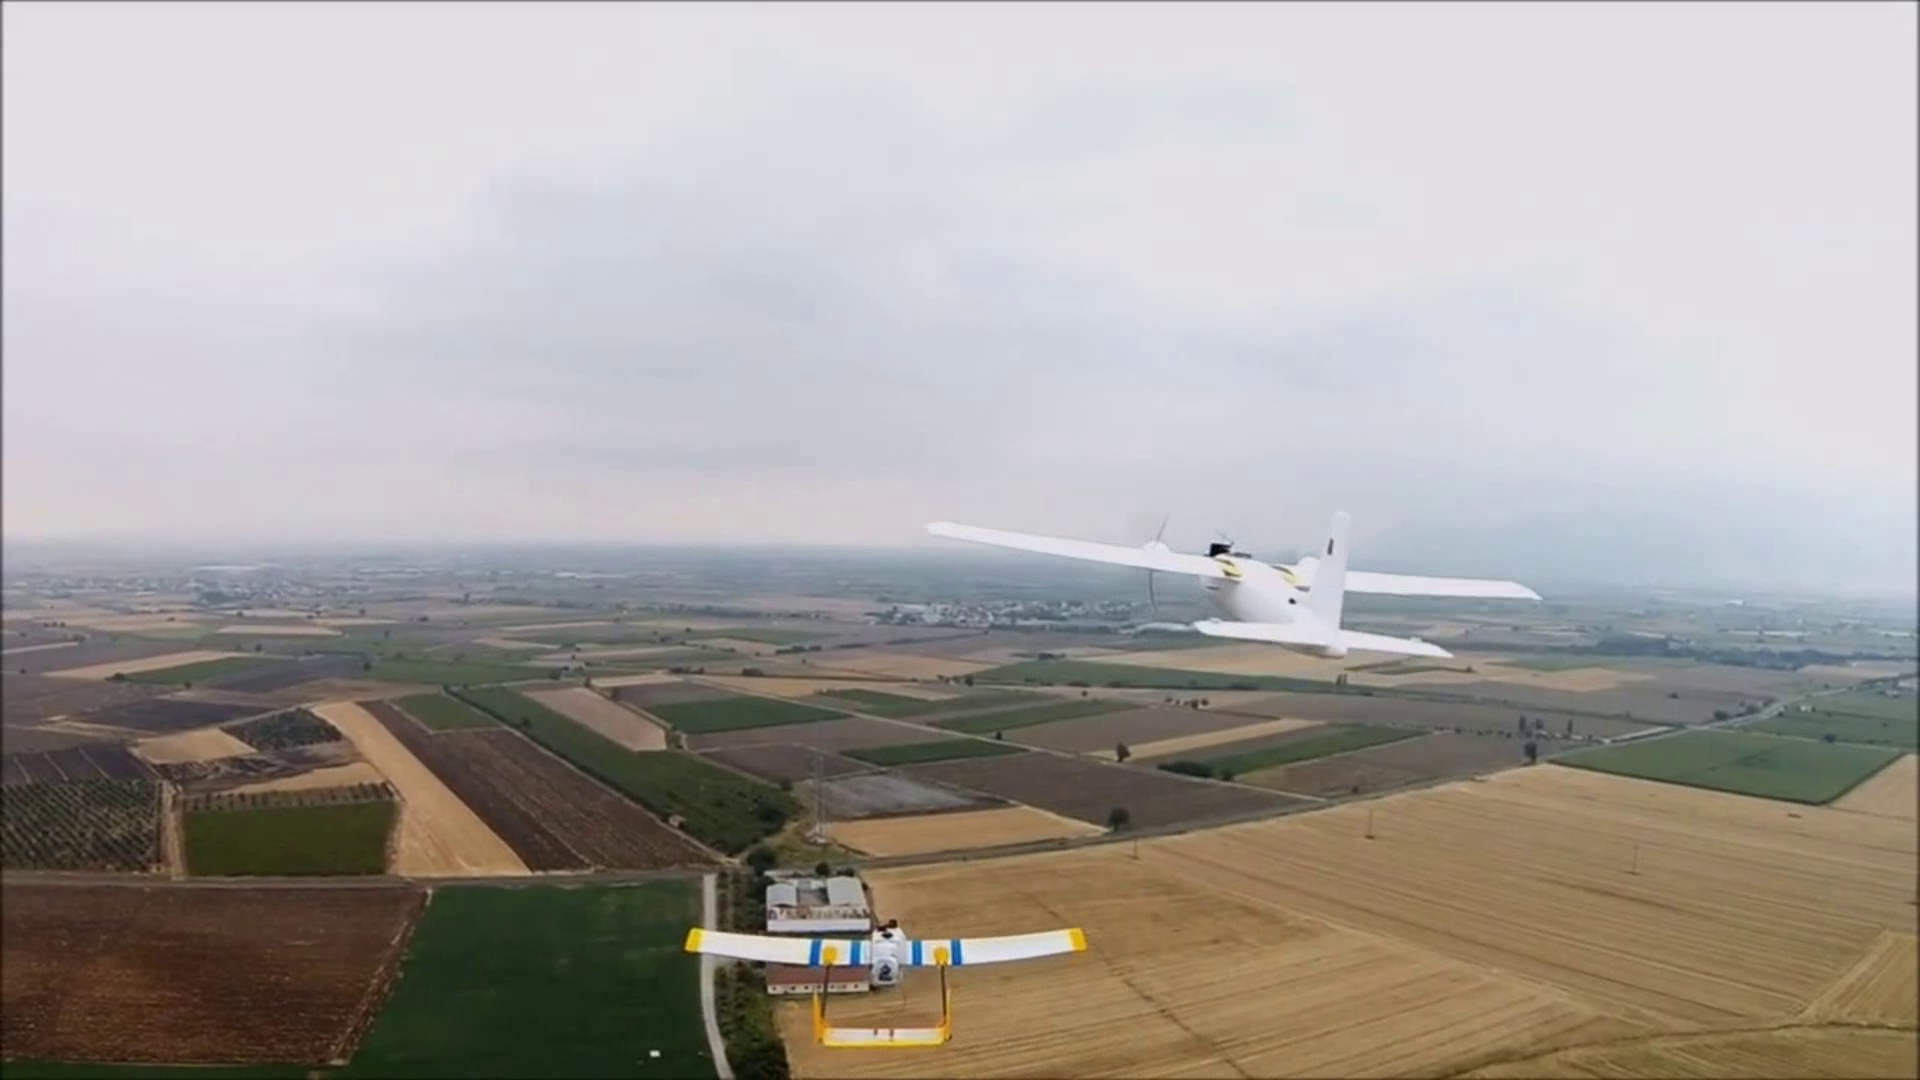airplane: (920, 506, 1511, 667)
